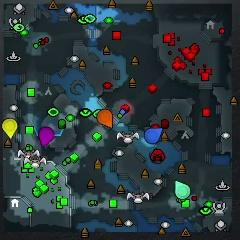p1: (145, 127, 163, 143)
p2: (175, 181, 189, 199)
p3: (39, 127, 53, 146)
p4: (2, 118, 17, 138)
p5: (98, 110, 113, 129)
